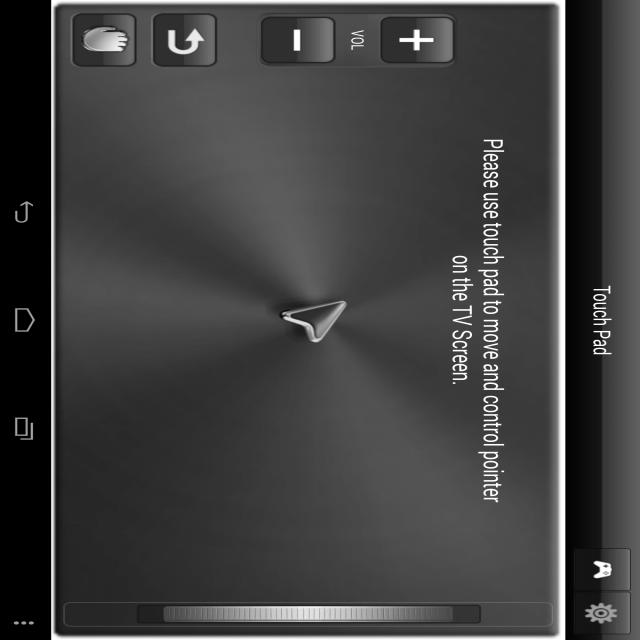Button: (147, 10, 224, 70), (257, 13, 338, 67), (379, 16, 460, 67), (70, 12, 141, 68)
ImageButton: (581, 555, 624, 585), (580, 599, 624, 627)
ImageView: (69, 597, 543, 630), (260, 289, 368, 354)
TextView: (473, 135, 512, 505), (442, 250, 469, 390), (582, 280, 620, 360), (347, 23, 370, 55)
